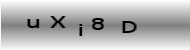8: (91, 17, 104, 31)
D: (121, 20, 138, 34)
X: (48, 14, 67, 29)
i: (78, 23, 83, 37)
u: (26, 17, 40, 29)
